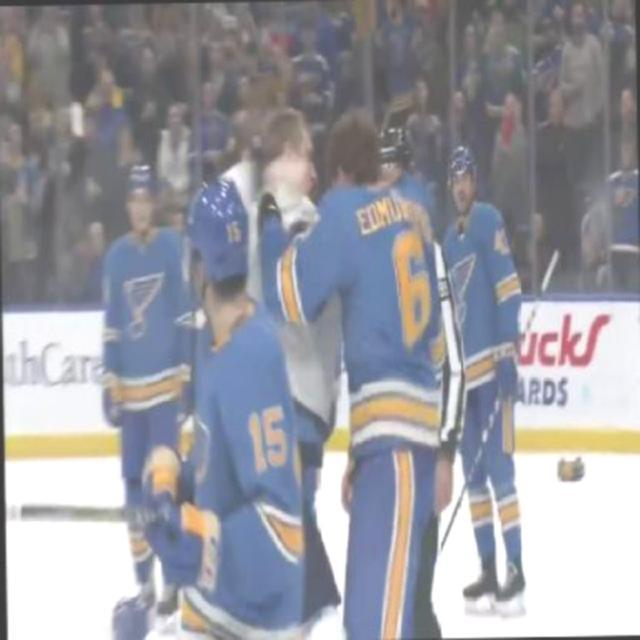fight: (228, 103, 442, 460)
